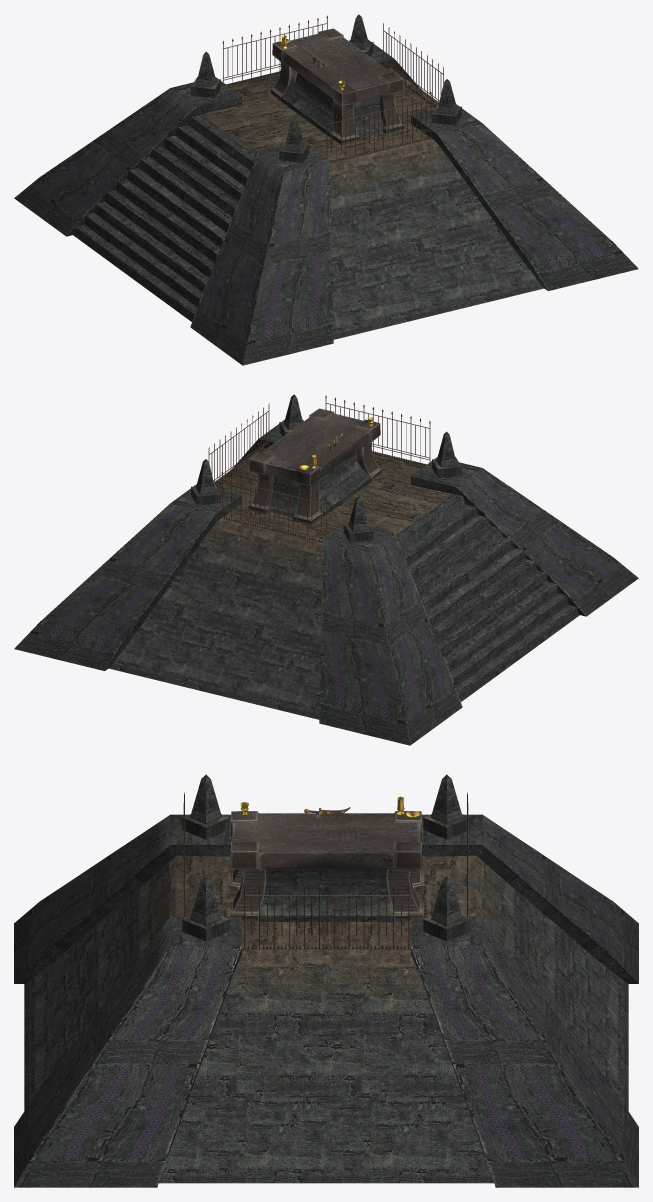
File: altar.fbx
3 views of the same model, one above another, from view 1: azimuth 30°, elevation 25°; view 2: azimuth 150°, elevation 25°; view 3: azimuth 270°, elevation 25° (orthographic). The views are drawn at different scales.
Parts seen in each view (by area): view 1: Mesh Object; view 2: Mesh Object; view 3: Mesh Object.
Boxes of the visible parts, x1,y1,x2,y2 form: Mesh Object: (14, 14, 638, 365); Mesh Object: (14, 394, 638, 745); Mesh Object: (14, 774, 638, 1187).
Bounding box in the file's own units: 10 × 4.36 × 10.
